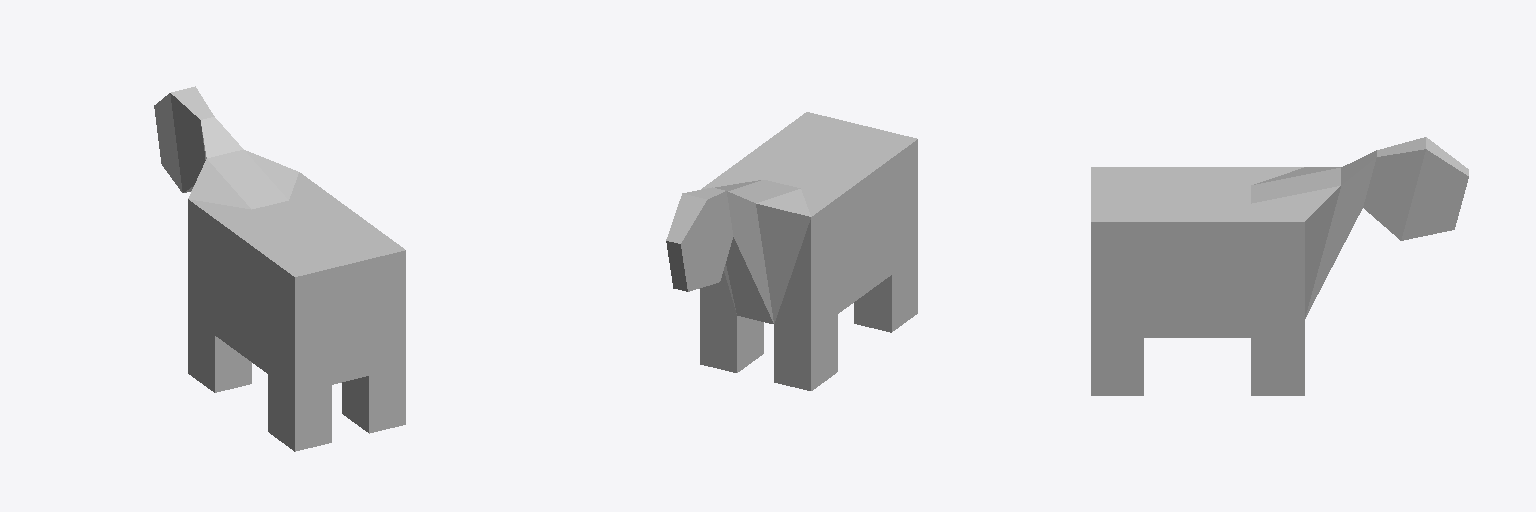
Rendered from bear.obj.
3 views of the same model, side by side, from view 1: azimuth 30°, elevation 25°; view 2: azimuth 150°, elevation 25°; view 3: azimuth 270°, elevation 25° (orthographic).
Visible parts, largest first — view 1: Cube_Cube.002; view 2: Cube_Cube.002; view 3: Cube_Cube.002.
Boxes of the visible parts, box(x1,y1,x2,y2) form: Cube_Cube.002: box(154, 86, 405, 451); Cube_Cube.002: box(666, 112, 917, 390); Cube_Cube.002: box(1091, 137, 1468, 395).
Bounding box in the file's own units: 2 × 3.88 × 5.88.